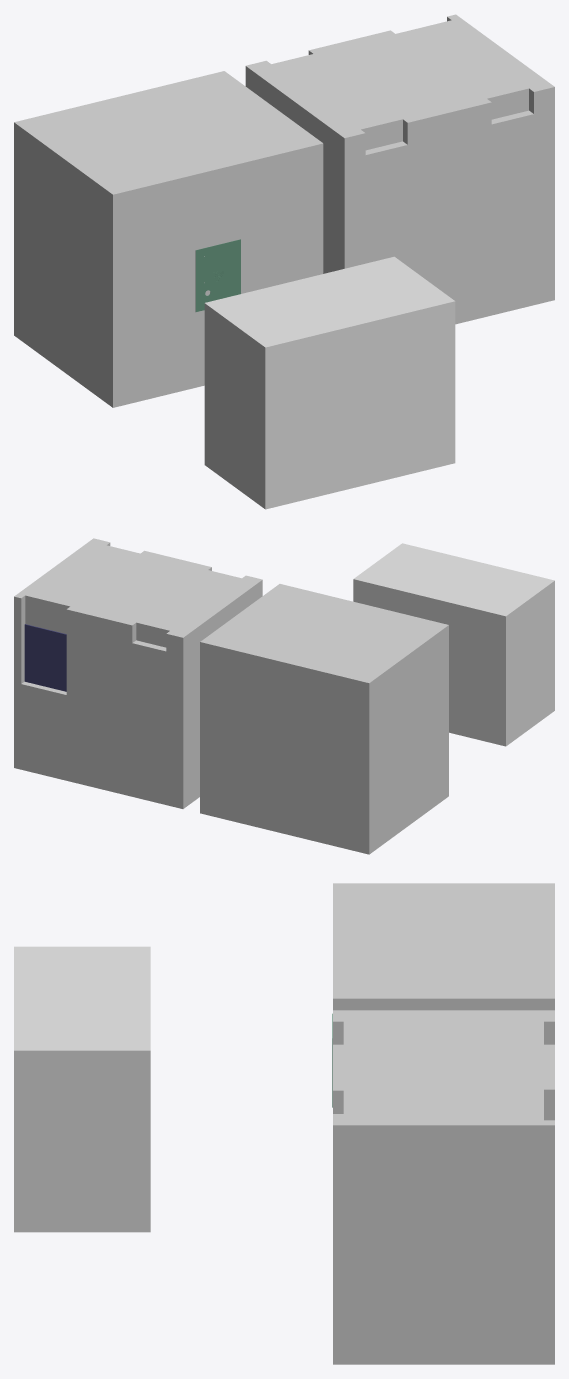
Rendered from assembly.glb.
The picture shows the model from 3 angles, top to bottom: view 1: azimuth 30°, elevation 25°; view 2: azimuth 150°, elevation 25°; view 3: azimuth 270°, elevation 25°; orthographic projection. The views are drawn at different scales.
Visible parts, largest first — view 1: container_shell (×2), EXT-DC-002, ARC-PLT-CD; view 2: container_shell (×2), EXT-DC-002, GRD-SWG-001; view 3: container_shell (×2), EXT-DC-002.
Boxes of the visible parts, box(x1,y1,x2,y2) form: container_shell (×2): box(14, 14, 554, 407); EXT-DC-002: box(204, 256, 455, 509); ARC-PLT-CD: box(195, 239, 240, 311); container_shell (×2): box(14, 538, 448, 854); EXT-DC-002: box(353, 543, 554, 746); GRD-SWG-001: box(24, 624, 66, 691); container_shell (×2): box(333, 883, 554, 1364); EXT-DC-002: box(14, 946, 150, 1232).
Size of the model in its own units: 6282 by 2896 by 5938.
